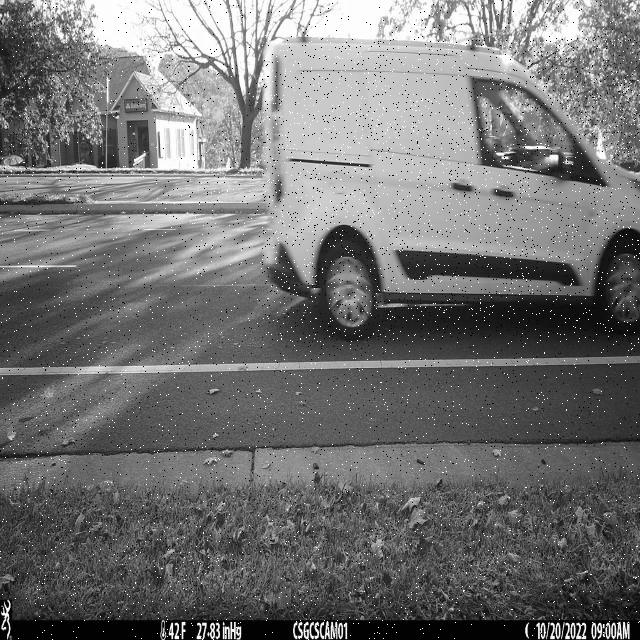Van: (262, 38, 640, 342)
